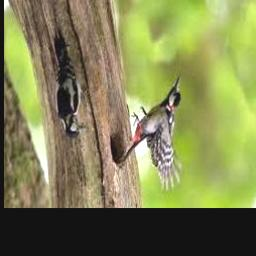Woodpecker: (123, 79, 181, 191), (54, 31, 88, 139)
